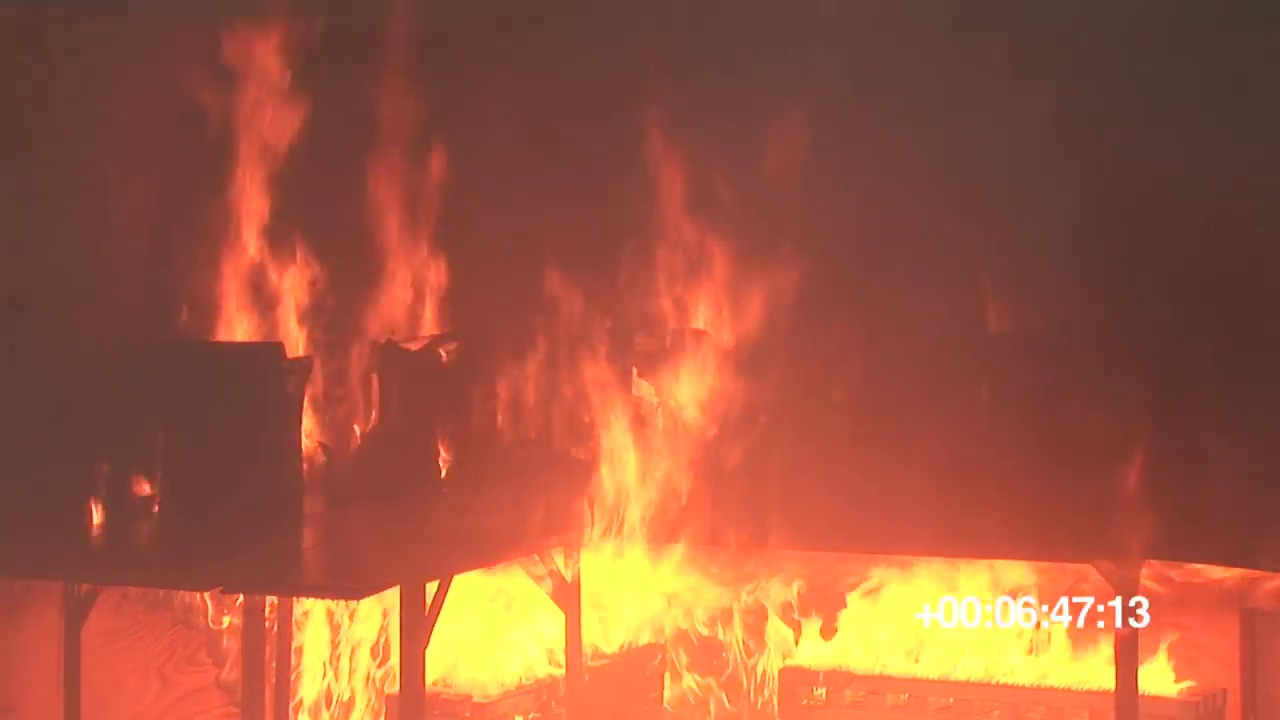fire: (289, 564, 1189, 694), (529, 286, 758, 532), (208, 27, 317, 352), (357, 102, 450, 342)
